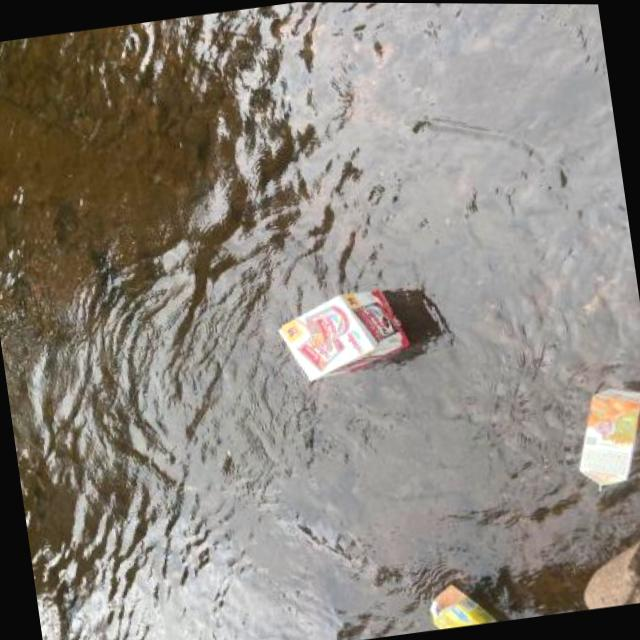Cardboard: (263, 277, 422, 389), (560, 380, 640, 500), (412, 568, 510, 632)
